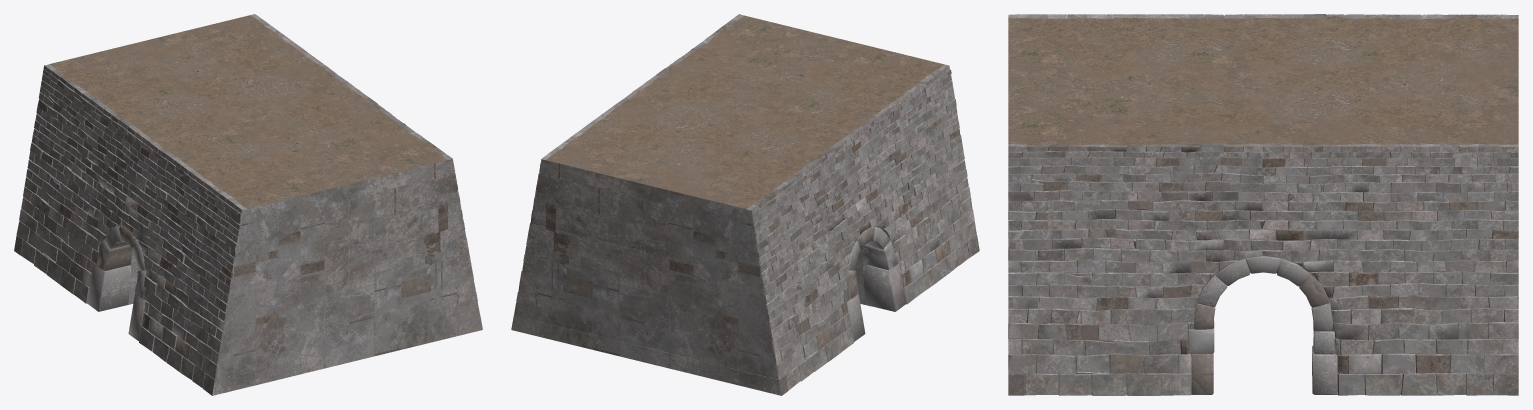
File: SM_Dark_Gate01a.fbx
3 views of the same model, side by side, from view 1: azimuth 30°, elevation 25°; view 2: azimuth 150°, elevation 25°; view 3: azimuth 270°, elevation 25° (orthographic). The views are drawn at different scales.
Parts seen in each view (by area): view 1: SM_Dark_Gate01a; view 2: SM_Dark_Gate01a; view 3: SM_Dark_Gate01a.
Part boxes in pixels (x1,y1,x2,y2): SM_Dark_Gate01a: (14,14,482,395); SM_Dark_Gate01a: (511,14,979,395); SM_Dark_Gate01a: (1008,14,1518,395).
Size of the model in its own units: 633 by 800 by 398.
Materials: 3 (3 with a texture image).
